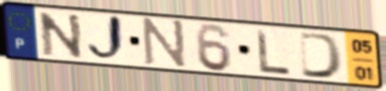6: (193, 21, 235, 73)
D: (297, 30, 346, 81)
J: (84, 13, 128, 65)
L: (254, 27, 293, 76)
N: (142, 17, 188, 72), (36, 10, 86, 60)
